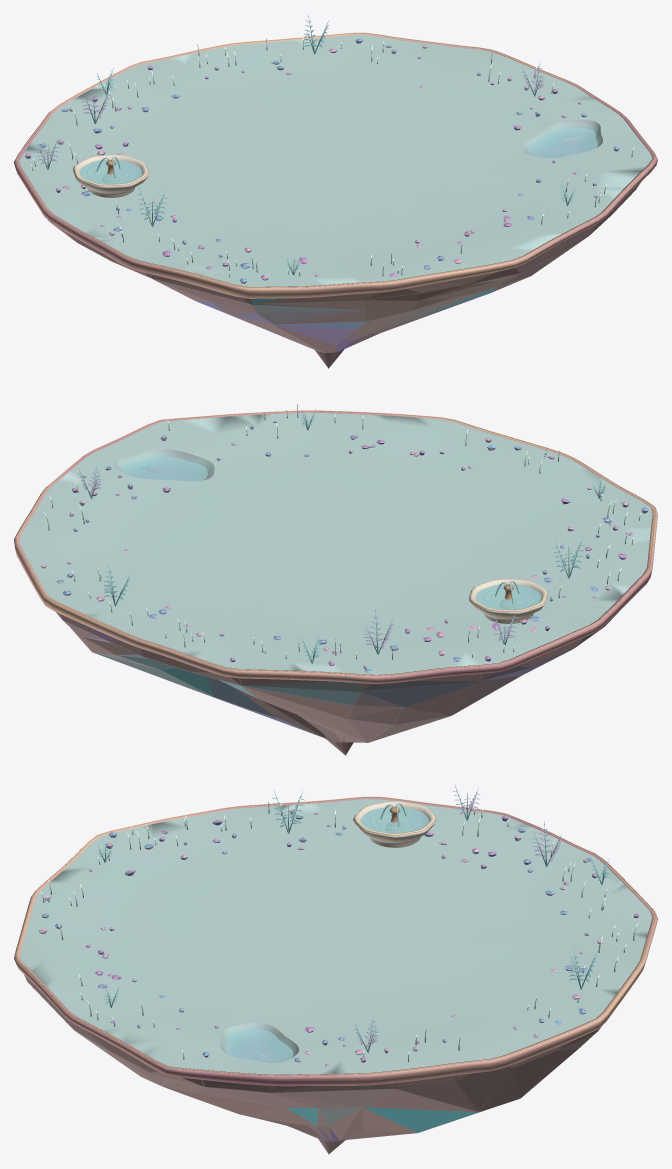
Rendered from island-modern.glb.
3 renders of one model, top to bottom at view 1: azimuth 30°, elevation 25°; view 2: azimuth 150°, elevation 25°; view 3: azimuth 270°, elevation 25°, orthographic. The views are drawn at different scales.
Parts seen in each view (by area): view 1: Island_Surface | Opalescent planting clearing, Island_Crystal_Underside | Asymmetric mineral keel, Island_Metal_Rim | Contour-following rose-gold seam, Island_Vegetation | Ferns and bent grasses, Island_Pond | Recessed mineral basin, Island_Accents | Scattered opal gravel, Island_Metal_Rim | Champagne upper seam, Island_Pond | Single aqua water sheet, Fountain_Basin, Fountain_Water_Surface; view 2: Island_Surface | Opalescent planting clearing, Island_Crystal_Underside | Asymmetric mineral keel, Island_Metal_Rim | Contour-following rose-gold seam, Island_Vegetation | Ferns and bent grasses, Island_Pond | Recessed mineral basin, Island_Accents | Scattered opal gravel, Island_Metal_Rim | Champagne upper seam, Island_Pond | Single aqua water sheet, Fountain_Basin, Fountain_Water_Surface; view 3: Island_Surface | Opalescent planting clearing, Island_Crystal_Underside | Asymmetric mineral keel, Island_Metal_Rim | Contour-following rose-gold seam, Island_Vegetation | Ferns and bent grasses, Island_Pond | Recessed mineral basin, Island_Accents | Scattered opal gravel, Island_Metal_Rim | Champagne upper seam, Island_Pond | Single aqua water sheet, Fountain_Basin, Fountain_Water_Surface.
Boxes of the visible parts, x1,y1,x2,y2 form: Island_Surface | Opalescent planting clearing: (19,35,652,286); Island_Crystal_Underside | Asymmetric mineral keel: (48,181,641,368); Island_Metal_Rim | Contour-following rose-gold seam: (14,33,657,298); Island_Vegetation | Ferns and bent grasses: (31,14,633,277); Island_Pond | Recessed mineral basin: (522,120,602,157); Island_Accents | Scattered opal gravel: (25,38,619,283); Island_Metal_Rim | Champagne upper seam: (15,32,656,287); Island_Pond | Single aqua water sheet: (528,128,597,158); Fountain_Basin: (73,154,148,197); Fountain_Water_Surface: (79,159,142,184); Island_Surface | Opalescent planting clearing: (19,412,652,674); Island_Crystal_Underside | Asymmetric mineral keel: (56,612,618,755); Island_Metal_Rim | Contour-following rose-gold seam: (14,411,657,683); Island_Vegetation | Ferns and bent grasses: (43,404,640,663); Island_Pond | Recessed mineral basin: (114,449,214,480); Island_Accents | Scattered opal gravel: (41,420,648,672); Island_Metal_Rim | Champagne upper seam: (15,410,656,675); Island_Pond | Single aqua water sheet: (121,456,207,481); Fountain_Basin: (469,578,548,623); Fountain_Water_Surface: (476,584,541,609); Island_Surface | Opalescent planting clearing: (19,799,652,1074); Island_Crystal_Underside | Asymmetric mineral keel: (24,975,600,1154); Island_Metal_Rim | Contour-following rose-gold seam: (14,797,657,1086); Island_Vegetation | Ferns and bent grasses: (42,785,637,1061); Island_Pond | Recessed mineral basin: (220,1022,298,1062); Island_Accents | Scattered opal gravel: (39,809,639,1066); Island_Metal_Rim | Champagne upper seam: (16,796,656,1075); Island_Pond | Single aqua water sheet: (225,1029,293,1063); Fountain_Basin: (353,800,436,847); Fountain_Water_Surface: (360,806,429,833).
Bounding box in the file's own units: 7.93 × 3.41 × 7.69.
